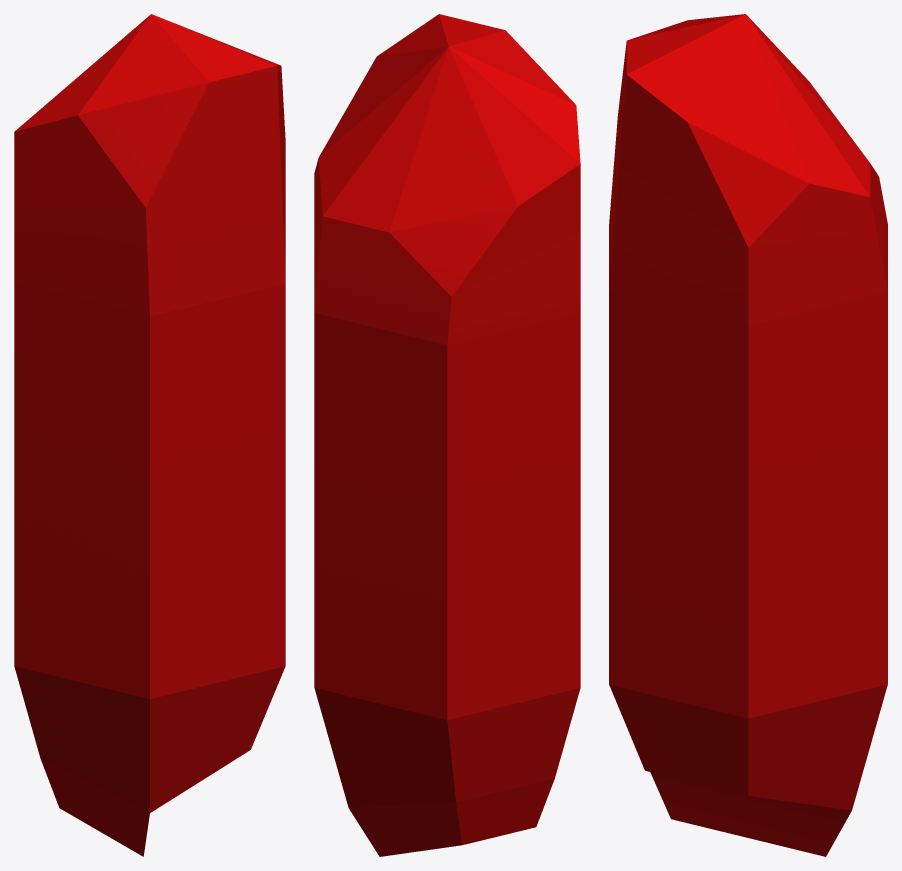
File: geology-crystals-coloredcrystal_v10.fbx
3 views of the same model, side by side, from view 1: azimuth 30°, elevation 25°; view 2: azimuth 150°, elevation 25°; view 3: azimuth 270°, elevation 25° (orthographic). The views are drawn at different scales.
Parts seen in each view (by area): view 1: ColoredCrystal_v10; view 2: ColoredCrystal_v10; view 3: ColoredCrystal_v10.
Part boxes in pixels (bbox=[...]): ColoredCrystal_v10: bbox=[14, 14, 285, 856]; ColoredCrystal_v10: bbox=[314, 14, 580, 856]; ColoredCrystal_v10: bbox=[609, 14, 887, 856].
Size of the model in its own units: 2.21 by 6.28 by 1.92.
